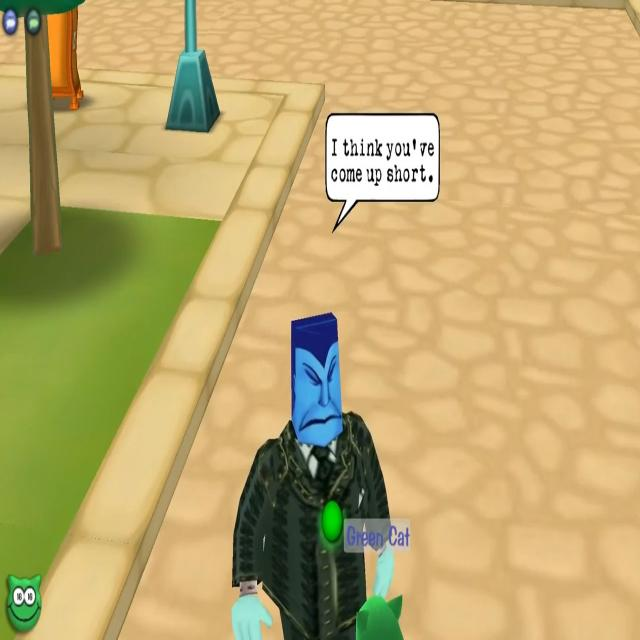shortchange: (231, 109, 445, 640)
